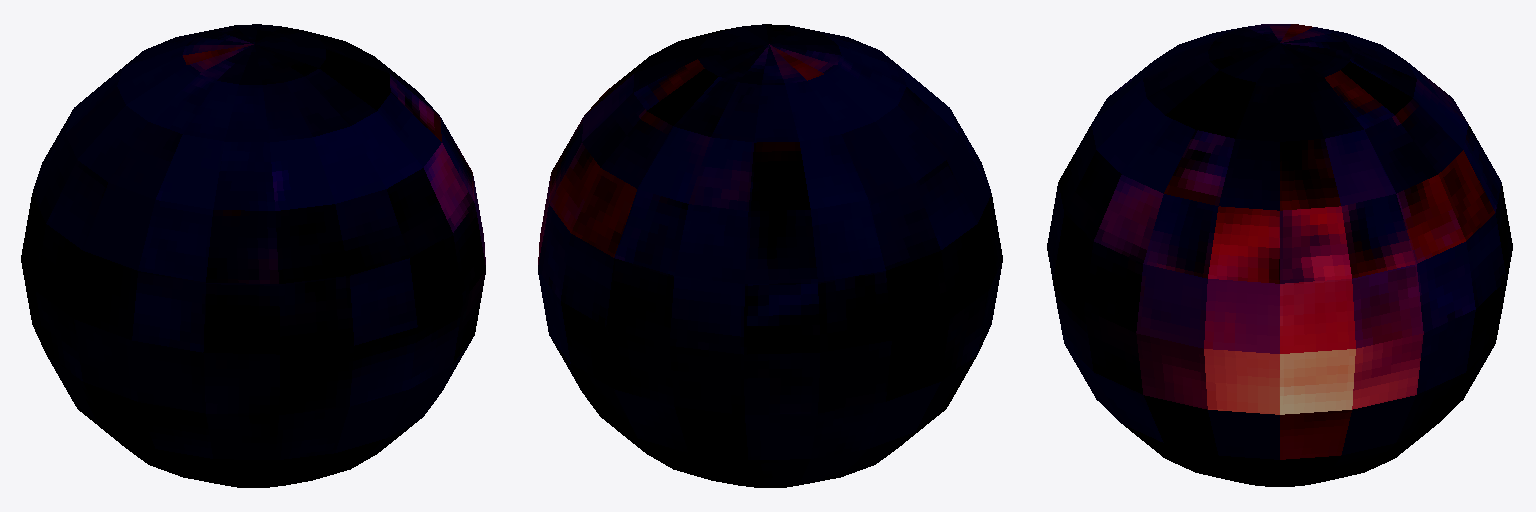
3 views of the same model, side by side, from view 1: azimuth 30°, elevation 25°; view 2: azimuth 150°, elevation 25°; view 3: azimuth 270°, elevation 25° (orthographic).
Parts seen in each view (by area): view 1: pSphere1; view 2: pSphere1; view 3: pSphere1.
Part boxes in pixels (x1,y1,x2,y2): pSphere1: (21,24,485,487); pSphere1: (538,24,1002,487); pSphere1: (1047,24,1512,486).
Size of the model in its own units: 1.99 by 2 by 1.99.
1 materials, 1 textured.